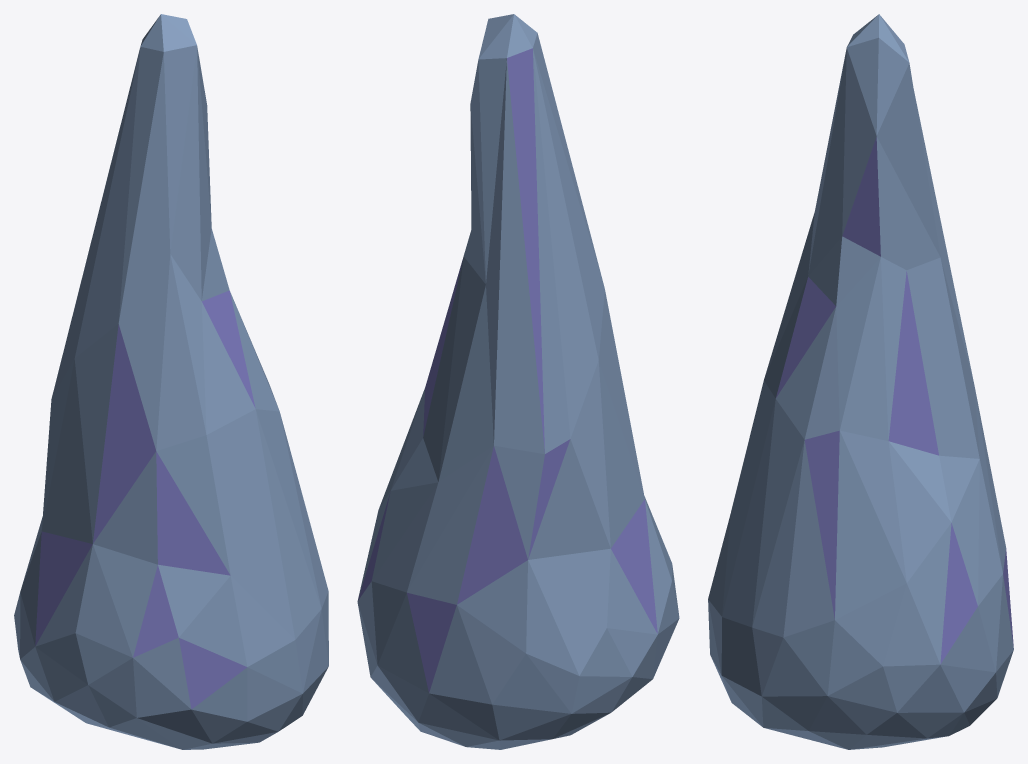
File: roca_background.fbx
The picture shows the model from 3 angles, left to right: view 1: azimuth 30°, elevation 25°; view 2: azimuth 150°, elevation 25°; view 3: azimuth 270°, elevation 25°; orthographic projection.
Parts seen in each view (by area): view 1: Cube; view 2: Cube; view 3: Cube.
Part boxes in pixels (x1=…): Cube: x1=14, y1=14, x2=328, y2=749; Cube: x1=357, y1=14, x2=679, y2=749; Cube: x1=708, y1=14, x2=1013, y2=749.
Size of the model in its own units: 181 by 448 by 176.
